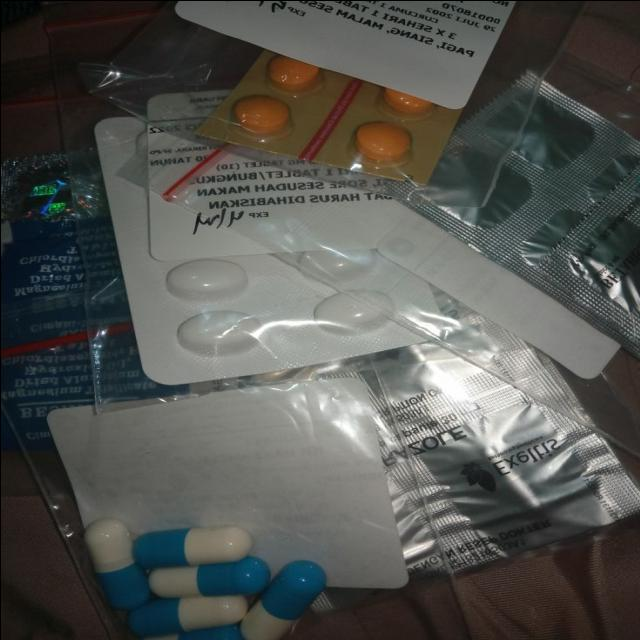b3: (1, 6, 619, 640), (81, 496, 358, 636), (171, 56, 469, 178)
